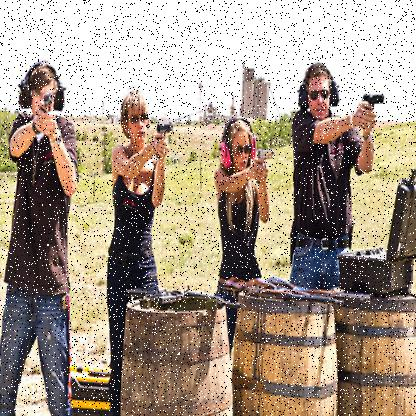pistol: (255, 147, 274, 185), (361, 93, 385, 123), (155, 123, 174, 151), (40, 92, 54, 120)
